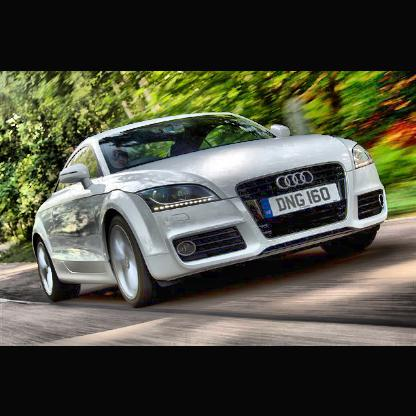Audi TT Hatchback 2011: (34, 113, 390, 308)
